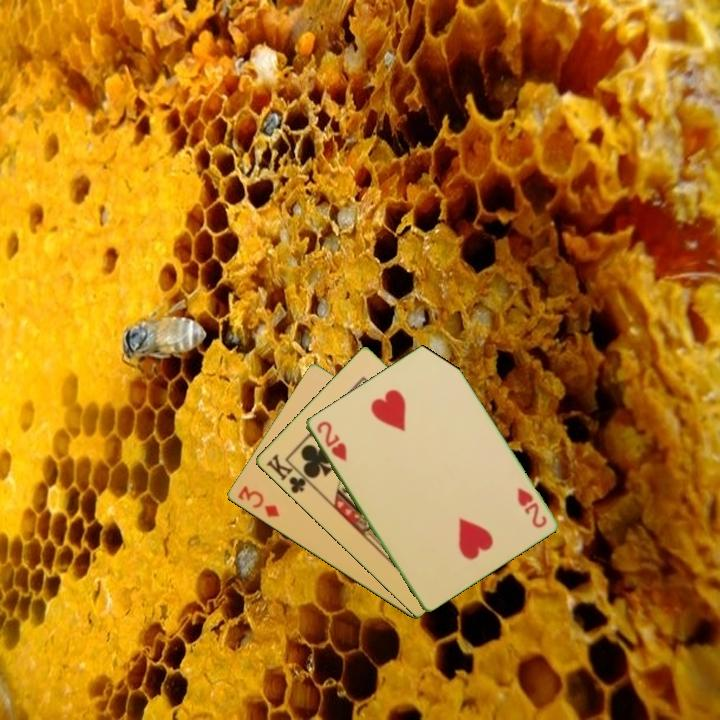2h: (513, 484, 550, 531), (313, 417, 349, 464)
3d: (234, 482, 282, 520)
Kc: (262, 450, 314, 497)
